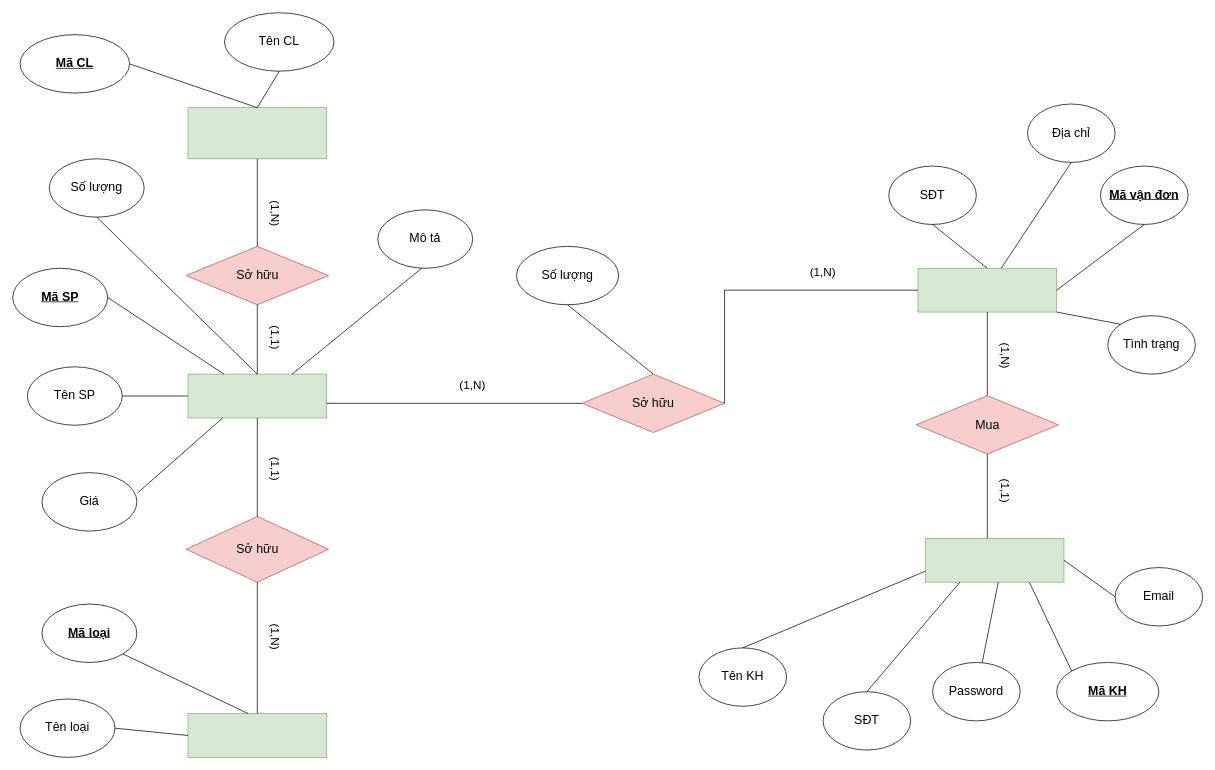
Some shapes in this 1215 by 770 pixel diagram are drawn without their labels. The box of each missing label's shape, as (x1, y1, x2, y2) in pixels:
Chất liệu: (187, 107, 327, 159)
Loại sản phẩm: (187, 713, 327, 757)
Sản phẩm: (187, 373, 327, 418)
TK hhách hàng: (925, 538, 1064, 582)
Đơn hàng: (917, 268, 1057, 312)
